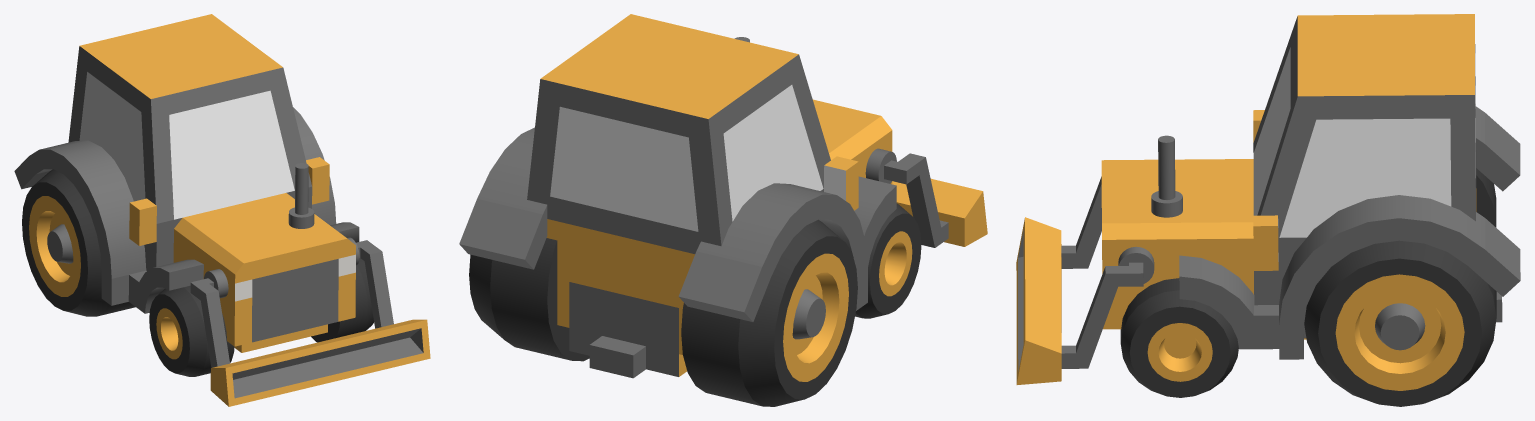
Rendered from 11 JCB.FBX.
The picture shows the model from 3 angles, left to right: view 1: azimuth 30°, elevation 25°; view 2: azimuth 150°, elevation 25°; view 3: azimuth 270°, elevation 25°; orthographic projection. The views are drawn at different scales.
Visible parts, largest first — view 1: body, shovel, skirts, wheel_backRight, wheel_frontRight, wheel_frontLeft; view 2: body, skirts, wheel_backRight, wheel_backLeft, shovel, wheel_frontRight; view 3: body, wheel_backLeft, skirts, shovel, wheel_frontLeft, wheel_backRight.
Part boxes in pixels (x1,y1,x2,y2): body: (68,14,355,352); shovel: (190,237,430,406); skirts: (14,107,359,313); wheel_backRight: (22,169,135,316); wheel_frontRight: (149,285,234,376); wheel_frontLeft: (311,258,373,342); body: (527,14,892,378); skirts: (459,127,896,321); wheel_backRight: (681,219,857,406); wheel_backLeft: (469,238,589,361); shovel: (865,148,987,247); wheel_frontRight: (855,203,921,318); body: (1101,14,1502,339); wheel_backLeft: (1304,240,1496,406); skirts: (1179,106,1520,359); shovel: (1016,176,1154,384); wheel_frontLeft: (1120,278,1238,397); wheel_backRight: (1476,168,1496,227).
Bounding box in the file's own units: 398 × 377 × 582.
